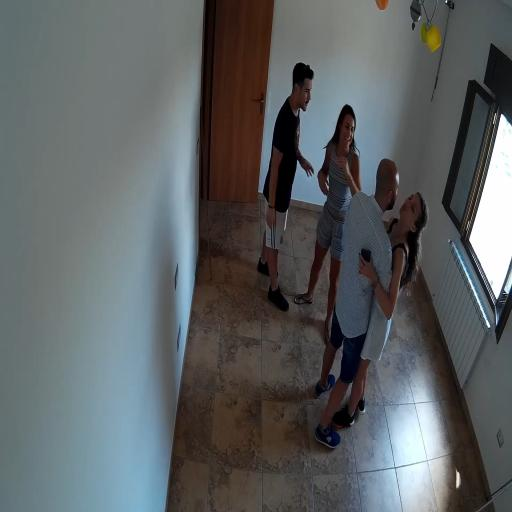nao-violencia: (310, 149, 430, 459)
